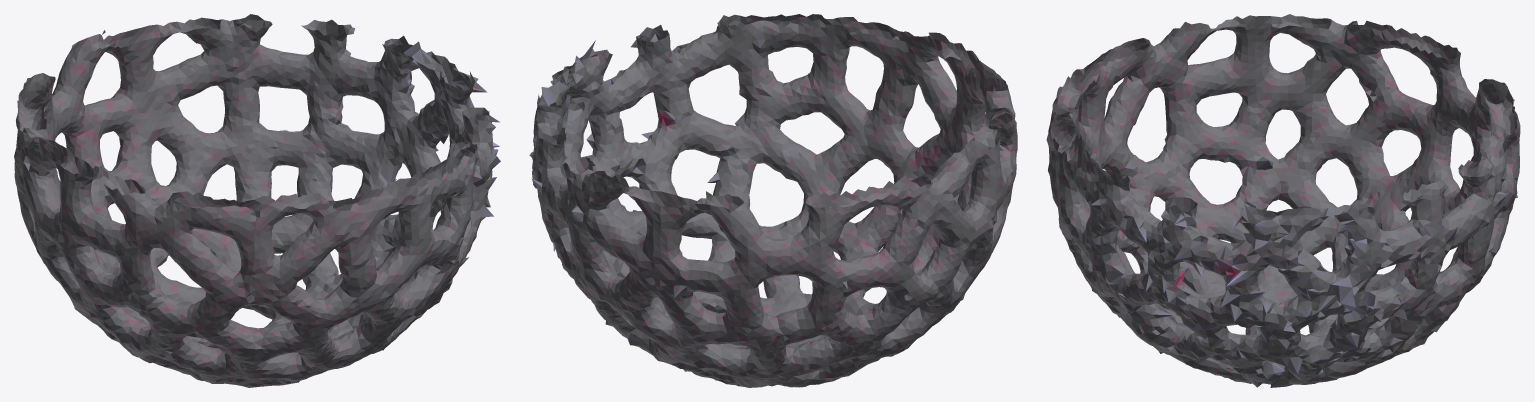
The picture shows the model from 3 angles, left to right: view 1: azimuth 30°, elevation 25°; view 2: azimuth 150°, elevation 25°; view 3: azimuth 270°, elevation 25°; orthographic projection. The views are drawn at different scales.
Size of the model in its own units: 2.02 by 1.19 by 1.99.
